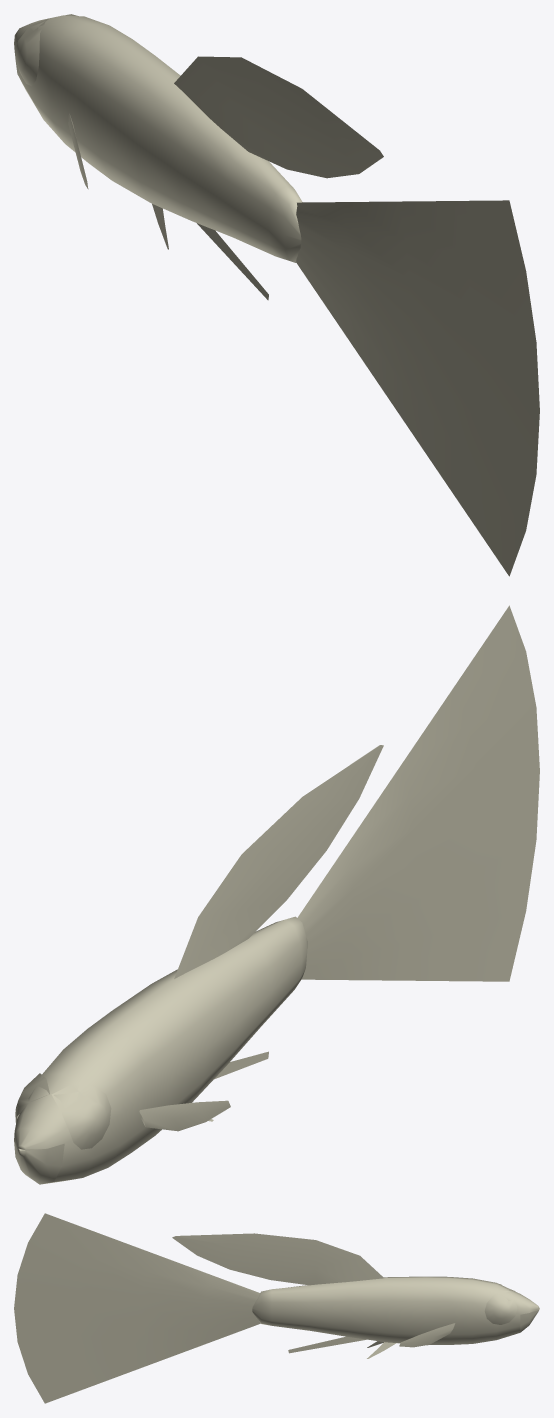
The model's file is guppy_male_game.glb.
3 renders of one model, top to bottom at view 1: azimuth 30°, elevation 25°; view 2: azimuth 150°, elevation 25°; view 3: azimuth 270°, elevation 25°, orthographic. The views are drawn at different scales.
Visible parts, largest first — view 1: guppy_male_game; view 2: guppy_male_game; view 3: guppy_male_game.
Boxes of the visible parts, x1,y1,x2,y2 form: guppy_male_game: [14, 14, 539, 576]; guppy_male_game: [14, 605, 539, 1184]; guppy_male_game: [14, 1213, 539, 1403].
Bounding box in the file's own units: 0.00631 × 0.0159 × 0.0399.
